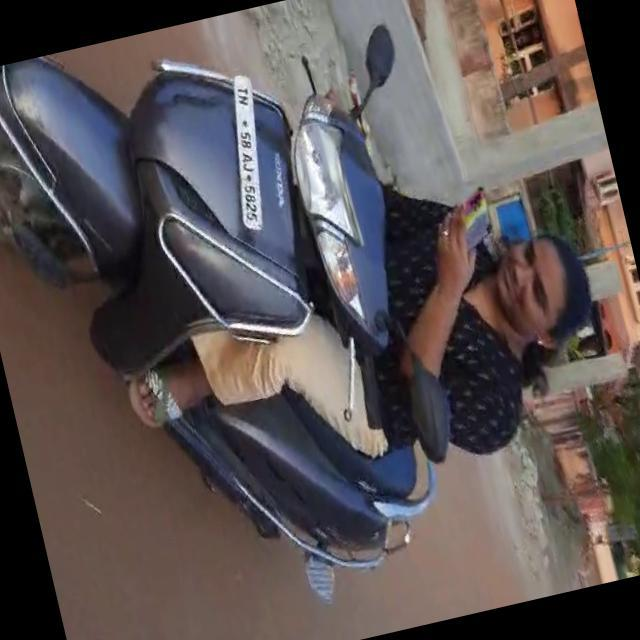USING_MOBILE: (397, 174, 604, 391)
